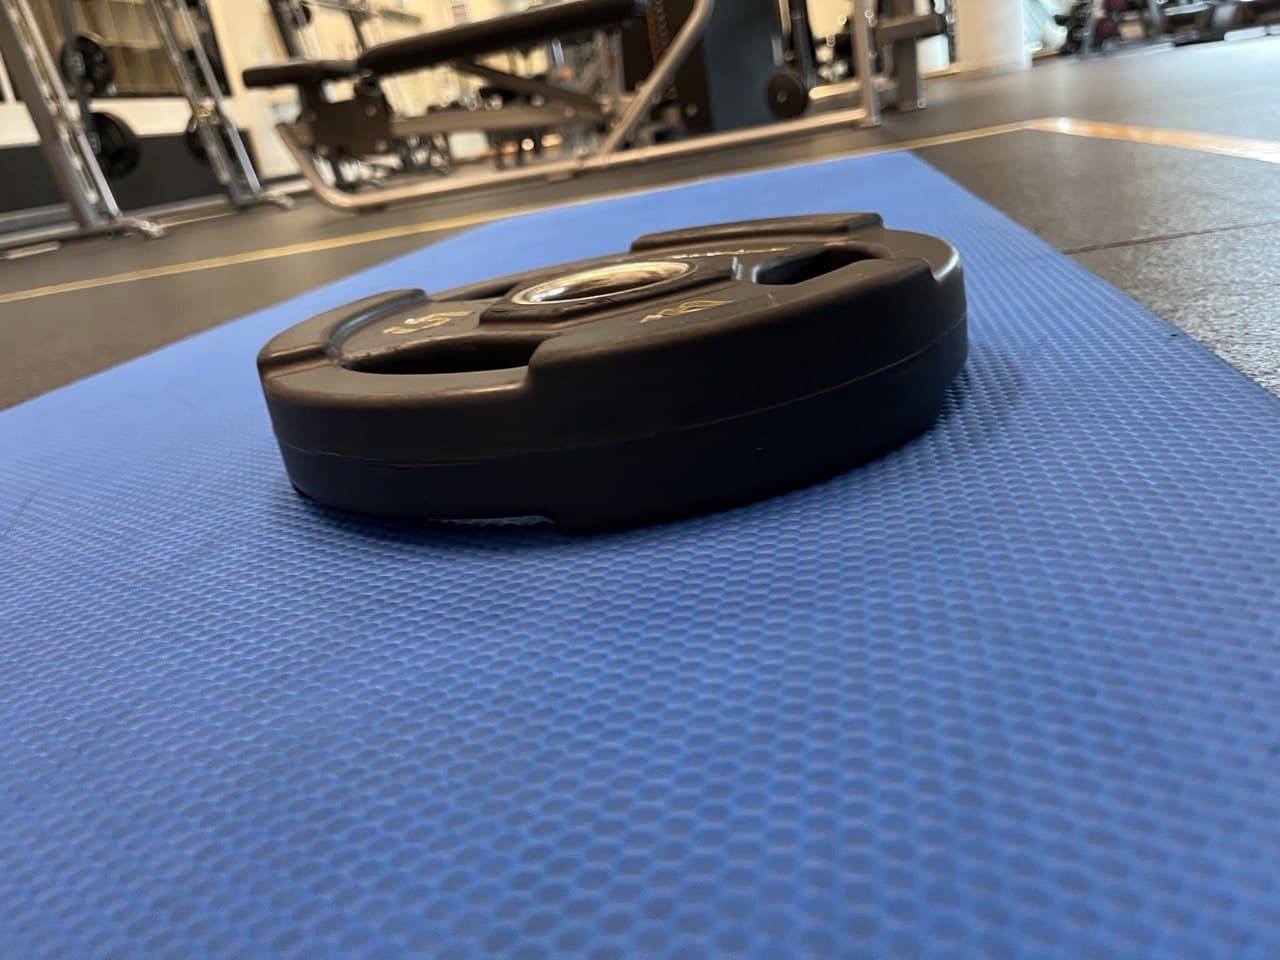weights: (255, 210, 971, 552)
